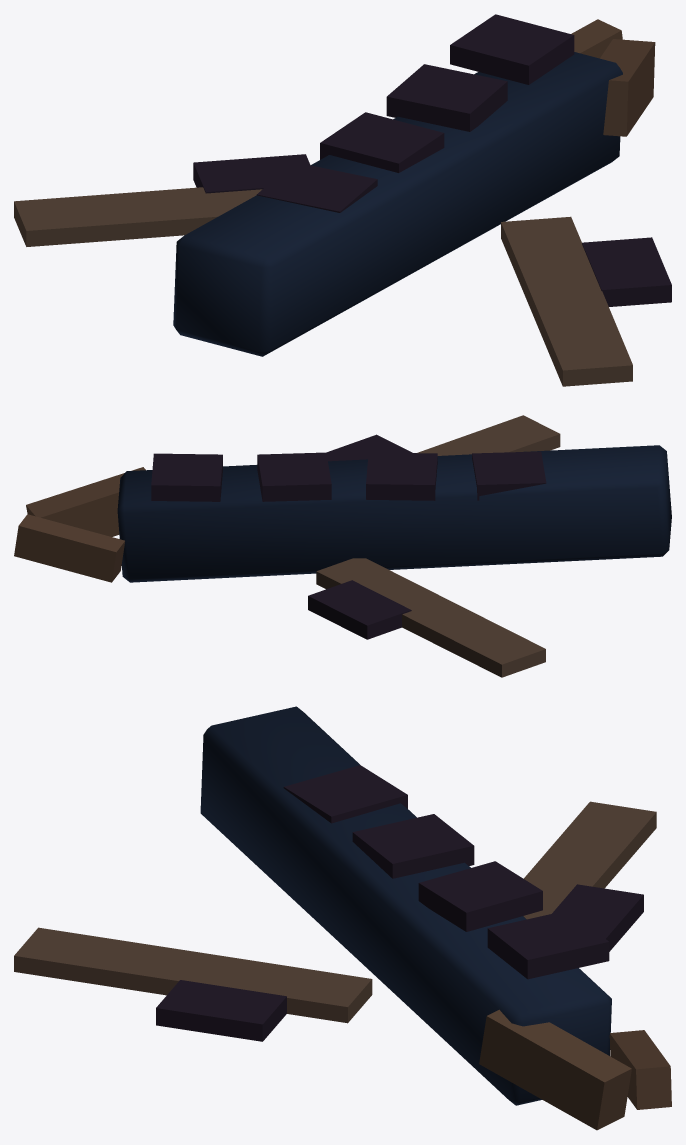
File: fallen_beam.glb
3 renders of one model, top to bottom at view 1: azimuth 30°, elevation 25°; view 2: azimuth 150°, elevation 25°; view 3: azimuth 270°, elevation 25°, orthographic. The views are drawn at different scales.
Parts seen in each view (by area): view 1: fallen_beam; view 2: fallen_beam; view 3: fallen_beam.
Boxes of the visible parts, x1,y1,x2,y2 form: fallen_beam: (14, 14, 671, 386); fallen_beam: (14, 415, 671, 677); fallen_beam: (14, 706, 671, 1130).
Size of the model in its own units: 1.03 by 0.2142 by 0.9259.
